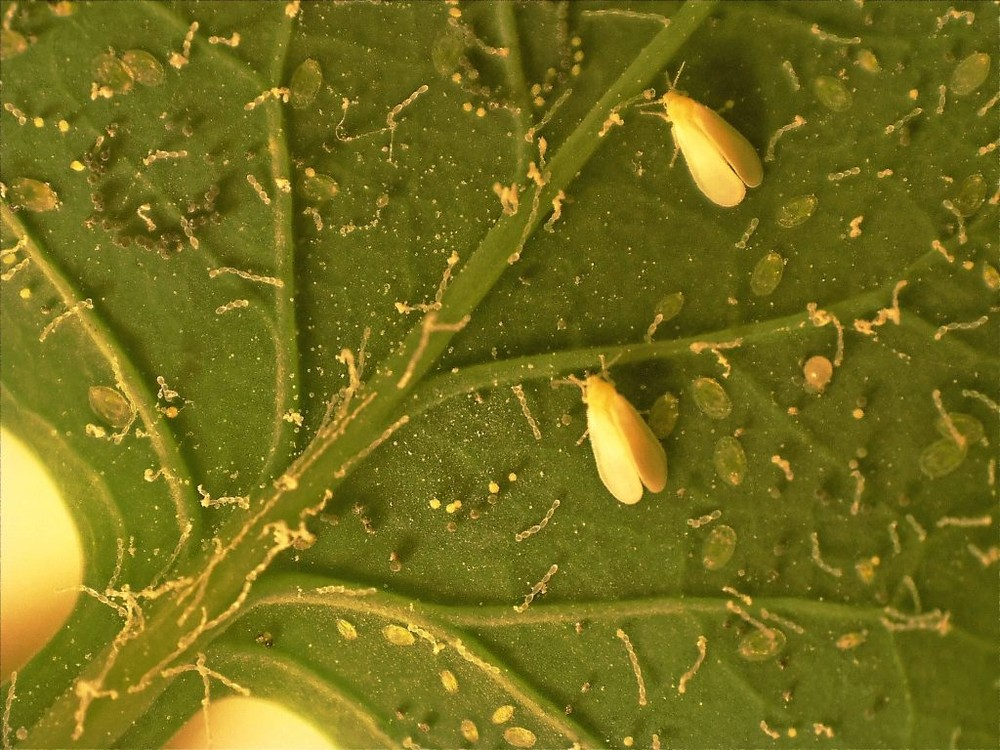Mosca Blanca: (624, 55, 795, 235), (539, 346, 694, 522)
